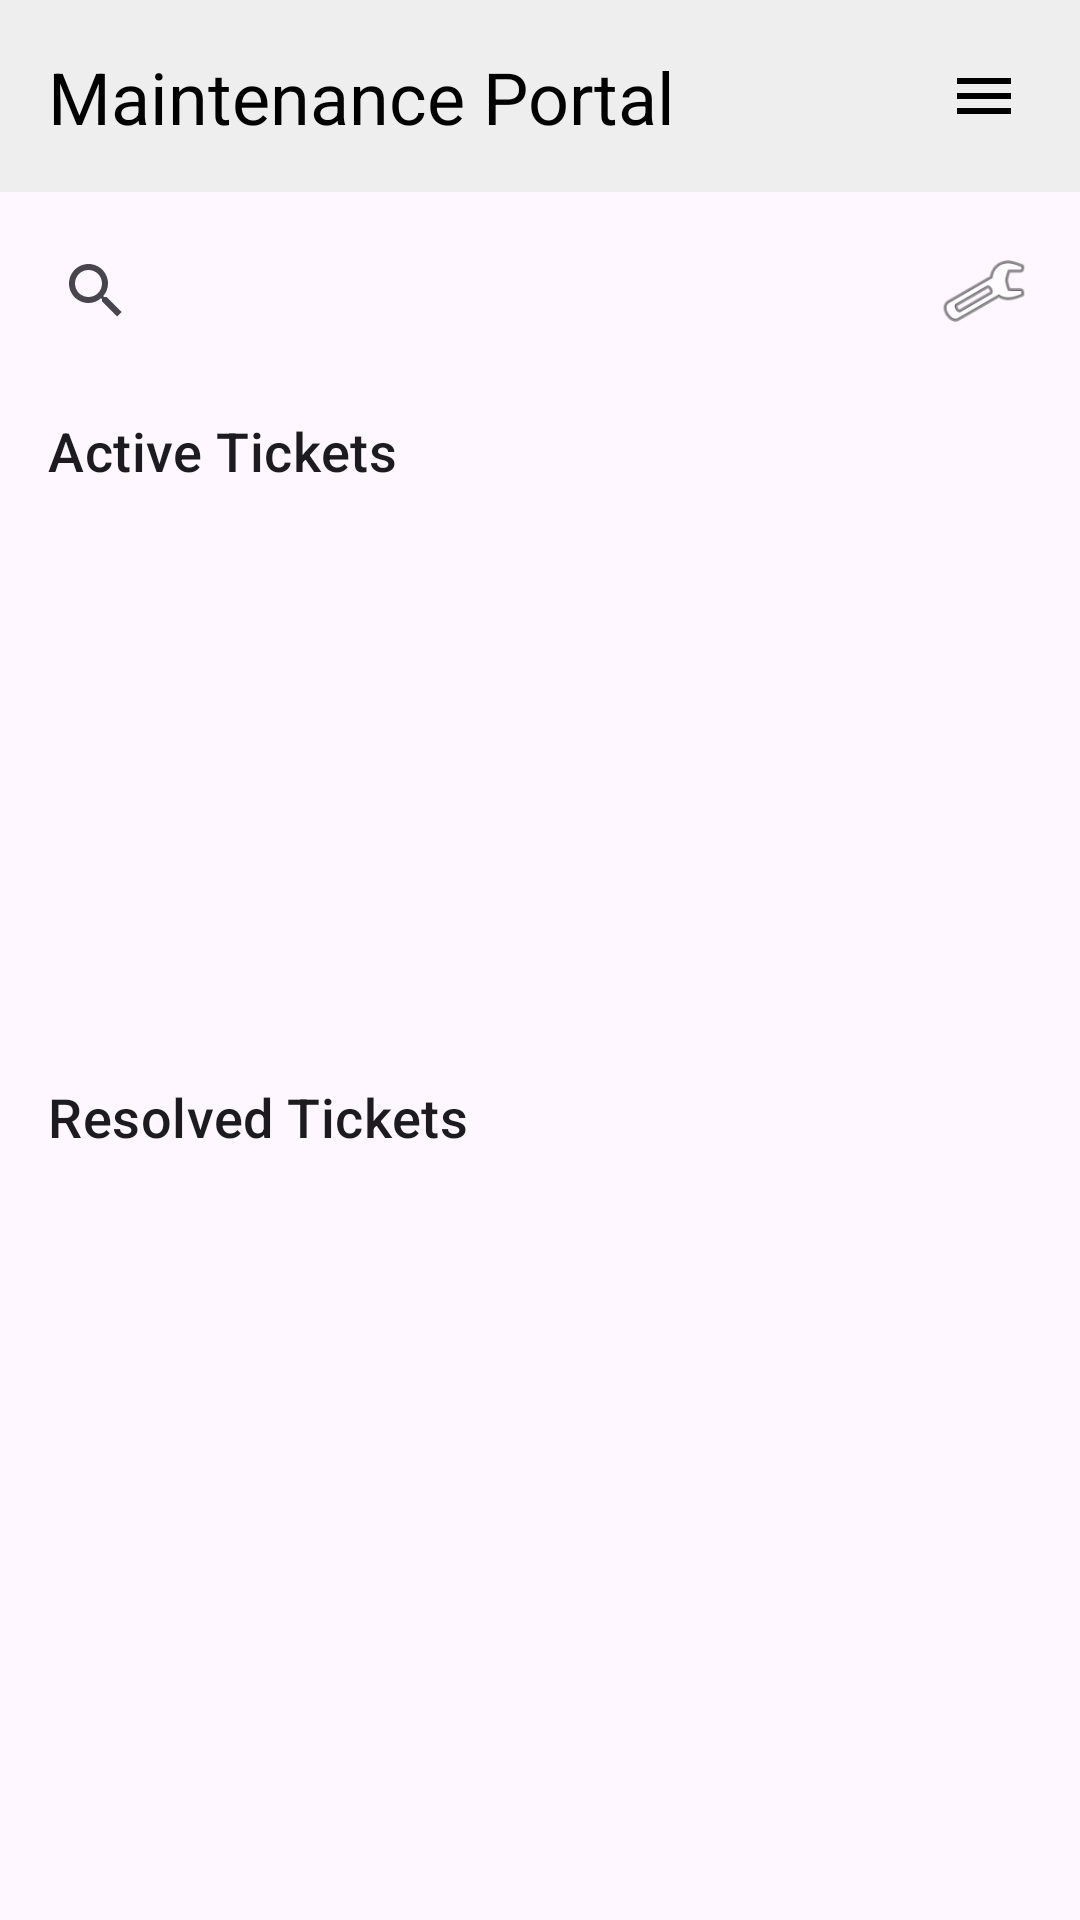

Icons on this 1080 × 1920 Android screen, each with its box as Rect(x1, y1, x2, y2):
Menu: Rect(957, 78, 1011, 114)
